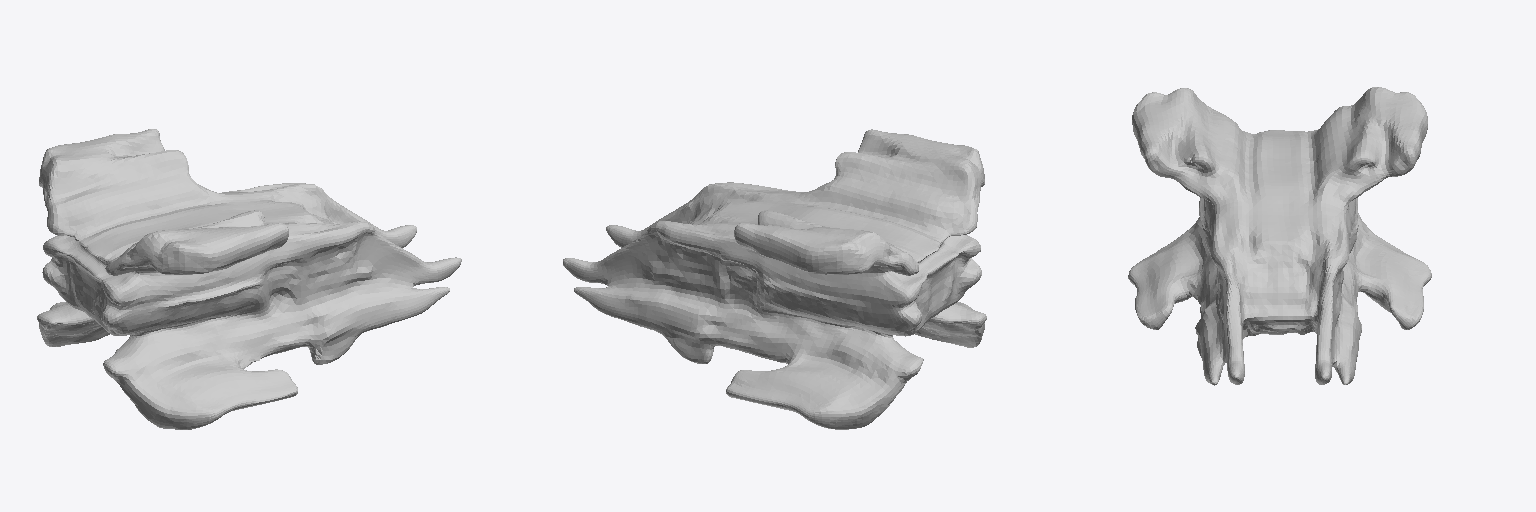
Rendered from c160a9d17633_A_sci_fi_assault_sh.obj.
3 renders of one model, left to right at view 1: azimuth 30°, elevation 25°; view 2: azimuth 150°, elevation 25°; view 3: azimuth 270°, elevation 25°, orthographic.
Visible parts, largest first — view 1: mesh; view 2: mesh; view 3: mesh.
Part boxes in pixels (x1,y1,x2,y2): mesh: (37, 129, 461, 429); mesh: (563, 129, 986, 429); mesh: (1128, 87, 1431, 385).
Bounding box in the file's own units: 0.9914 × 0.4952 × 0.7109.